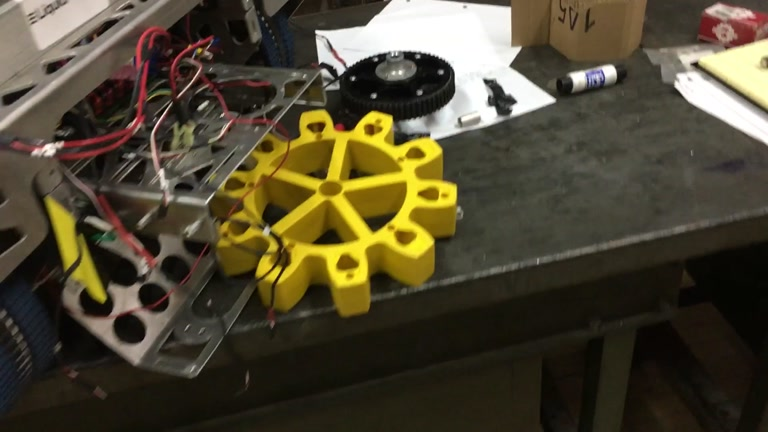gear: (207, 108, 456, 315)
